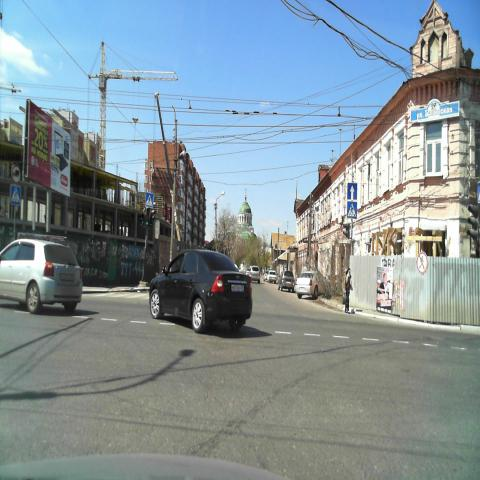3_10: (416, 251, 428, 274)
